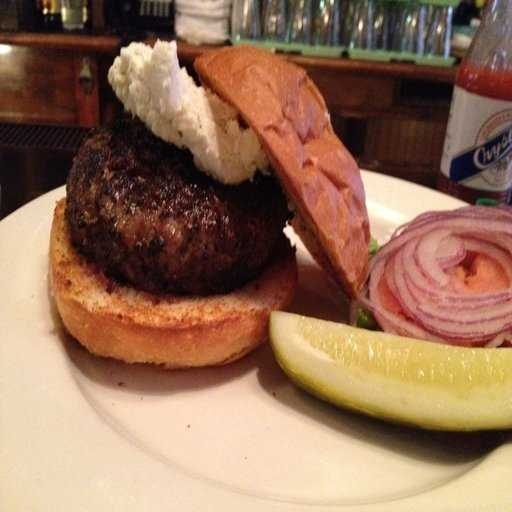hamburger: (32, 50, 359, 397)
